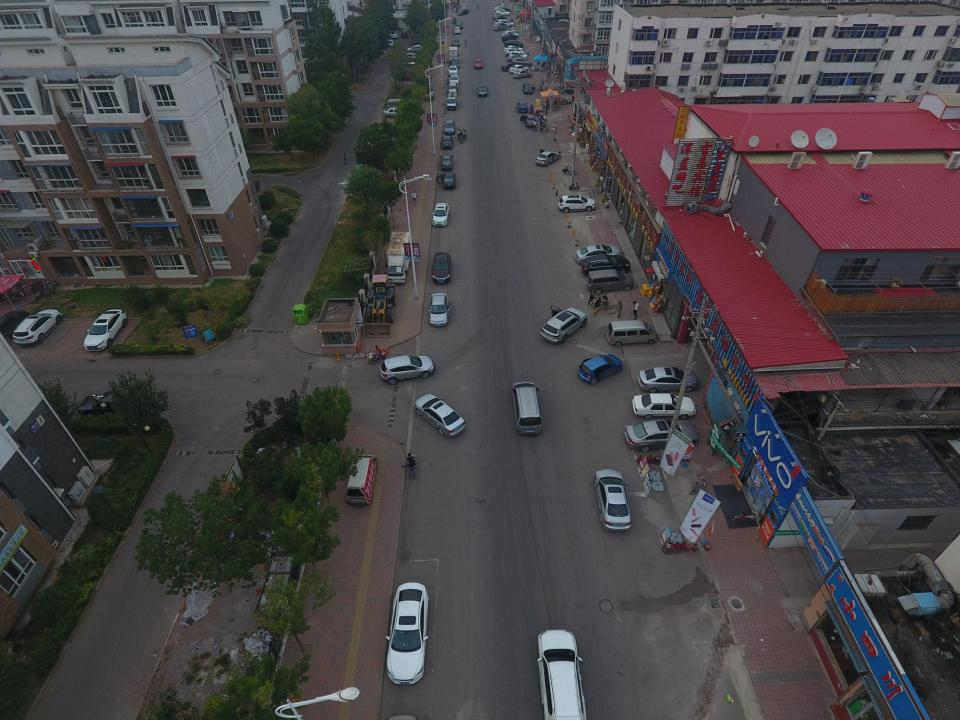car: (536, 629, 587, 720), (386, 582, 429, 684), (624, 417, 700, 452), (594, 469, 631, 531), (414, 393, 466, 436), (12, 309, 63, 346), (83, 309, 127, 351), (77, 390, 145, 417), (540, 305, 588, 343), (380, 354, 436, 384), (632, 393, 696, 419), (638, 366, 699, 393), (578, 354, 624, 384), (0, 310, 30, 352), (581, 255, 631, 278), (575, 244, 622, 264), (428, 293, 452, 326), (431, 252, 452, 284), (558, 194, 595, 212), (535, 149, 561, 166), (432, 203, 450, 226), (369, 122, 400, 134), (436, 172, 456, 188), (382, 107, 408, 118), (440, 154, 454, 170), (500, 62, 522, 72), (512, 57, 532, 67), (396, 61, 416, 71), (520, 114, 536, 126), (512, 69, 532, 78), (505, 47, 525, 56), (441, 136, 453, 150), (444, 120, 456, 134), (507, 55, 527, 63), (508, 51, 528, 59), (522, 82, 535, 94), (509, 65, 528, 73), (504, 39, 523, 47), (516, 101, 528, 113), (406, 44, 423, 52), (398, 57, 417, 64), (477, 84, 488, 96), (496, 20, 514, 27), (449, 74, 460, 85), (502, 31, 519, 38), (504, 46, 523, 52), (492, 19, 511, 25), (449, 59, 460, 69), (448, 65, 458, 76), (400, 53, 418, 59), (501, 34, 516, 41), (496, 7, 512, 13), (474, 59, 483, 69), (387, 31, 398, 39), (457, 8, 469, 15), (496, 9, 510, 15), (493, 15, 506, 21), (494, 5, 505, 11), (452, 38, 460, 46), (455, 21, 463, 29), (400, 30, 408, 38), (453, 27, 461, 34), (387, 39, 394, 47), (492, 13, 499, 19), (454, 6, 460, 12), (498, 0, 504, 5), (461, 4, 467, 9), (499, 4, 506, 8)
truck: (511, 381, 543, 435), (346, 454, 378, 505), (384, 232, 412, 284), (606, 320, 657, 346), (586, 269, 634, 294), (387, 98, 407, 109), (448, 46, 459, 61), (446, 97, 457, 110), (448, 82, 458, 94), (492, 22, 507, 30)
van: (411, 34, 429, 45)
